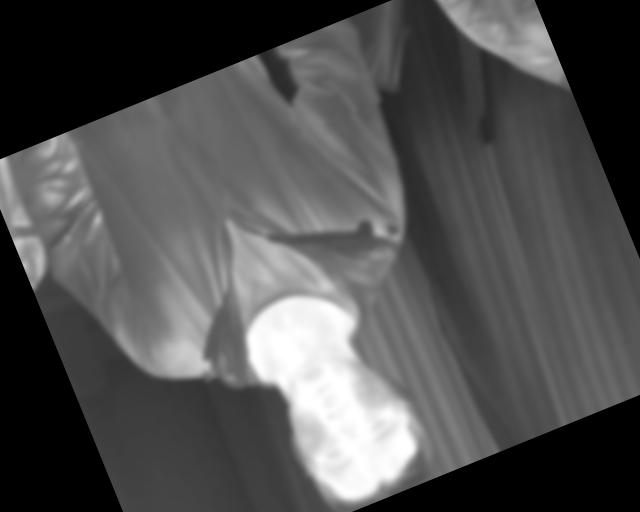face: (265, 334, 441, 512)
